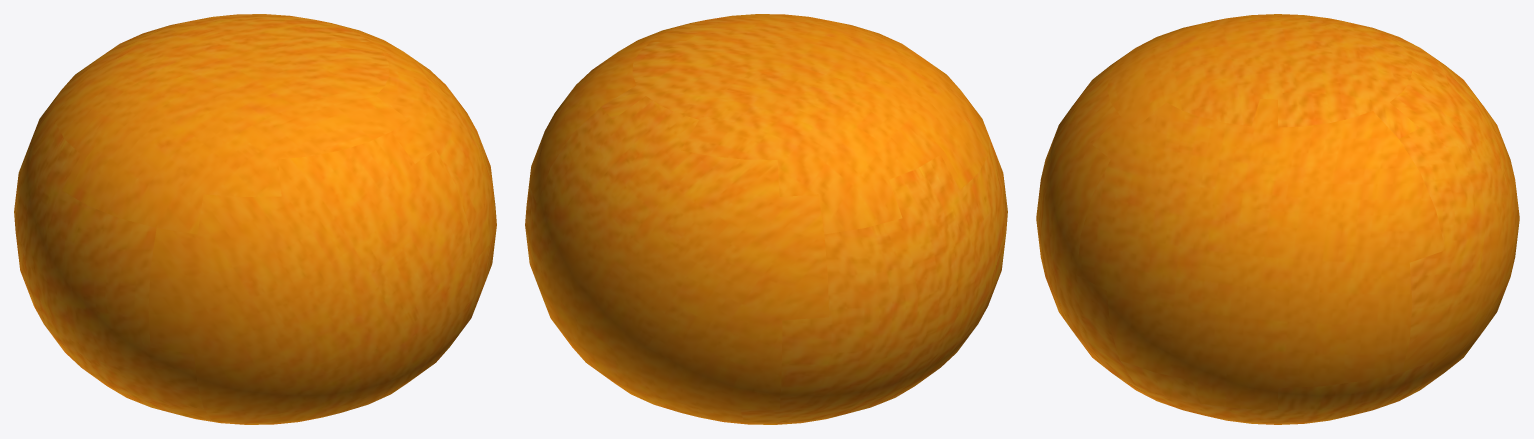
File: mandarina.obj
3 renders of one model, left to right at view 1: azimuth 30°, elevation 25°; view 2: azimuth 150°, elevation 25°; view 3: azimuth 270°, elevation 25°, orthographic.
Bounding box in the file's own units: 2.8 × 2.12 × 2.8.
